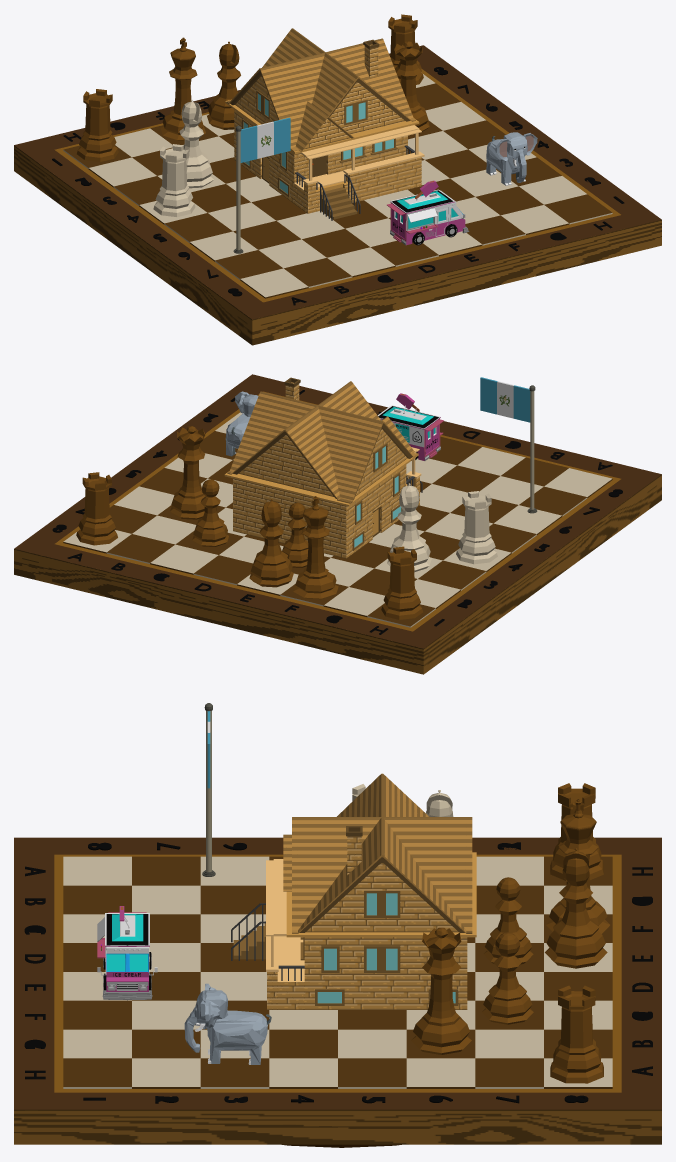
3 renders of one model, top to bottom at view 1: azimuth 30°, elevation 25°; view 2: azimuth 150°, elevation 25°; view 3: azimuth 270°, elevation 25°, orthographic. The views are drawn at different scales.
Visible parts, largest first — view 1: Cube.002, Cube.508, VEHICLES_ICE_CREAM_TRUCK, OBJRANDOM_GUATEMALAN_FLAG, ANIMAL_ELEFANTE; view 2: Cube.002, Cube.508, OBJRANDOM_GUATEMALAN_FLAG, VEHICLES_ICE_CREAM_TRUCK, ANIMAL_ELEFANTE; view 3: Cube.002, Cube.508, VEHICLES_ICE_CREAM_TRUCK, ANIMAL_ELEFANTE, OBJRANDOM_GUATEMALAN_FLAG.
Part boxes in pixels (x1=…): Cube.002: x1=14, y1=14, x2=661, y2=345; Cube.508: x1=225, y1=28, x2=424, y2=220; VEHICLES_ICE_CREAM_TRUCK: x1=387, y1=180, x2=469, y2=245; OBJRANDOM_GUATEMALAN_FLAG: x1=233, y1=117, x2=290, y2=253; ANIMAL_ELEFANTE: x1=486, y1=132, x2=537, y2=185; Cube.002: x1=14, y1=374, x2=661, y2=674; Cube.508: x1=224, y1=377, x2=422, y2=558; OBJRANDOM_GUATEMALAN_FLAG: x1=480, y1=377, x2=537, y2=513; VEHICLES_ICE_CREAM_TRUCK: x1=378, y1=393, x2=443, y2=460; ANIMAL_ELEFANTE: x1=225, y1=391, x2=258, y2=456; Cube.002: x1=14, y1=783, x2=661, y2=1144; Cube.508: x1=231, y1=773, x2=476, y2=1009; VEHICLES_ICE_CREAM_TRUCK: x1=97, y1=906, x2=157, y2=1000; ANIMAL_ELEFANTE: x1=184, y1=983, x2=271, y2=1064; OBJRANDOM_GUATEMALAN_FLAG: x1=202, y1=703, x2=215, y2=876.
Size of the model in its own units: 3981 by 1564 by 4012.
49 materials, 3 textured.
